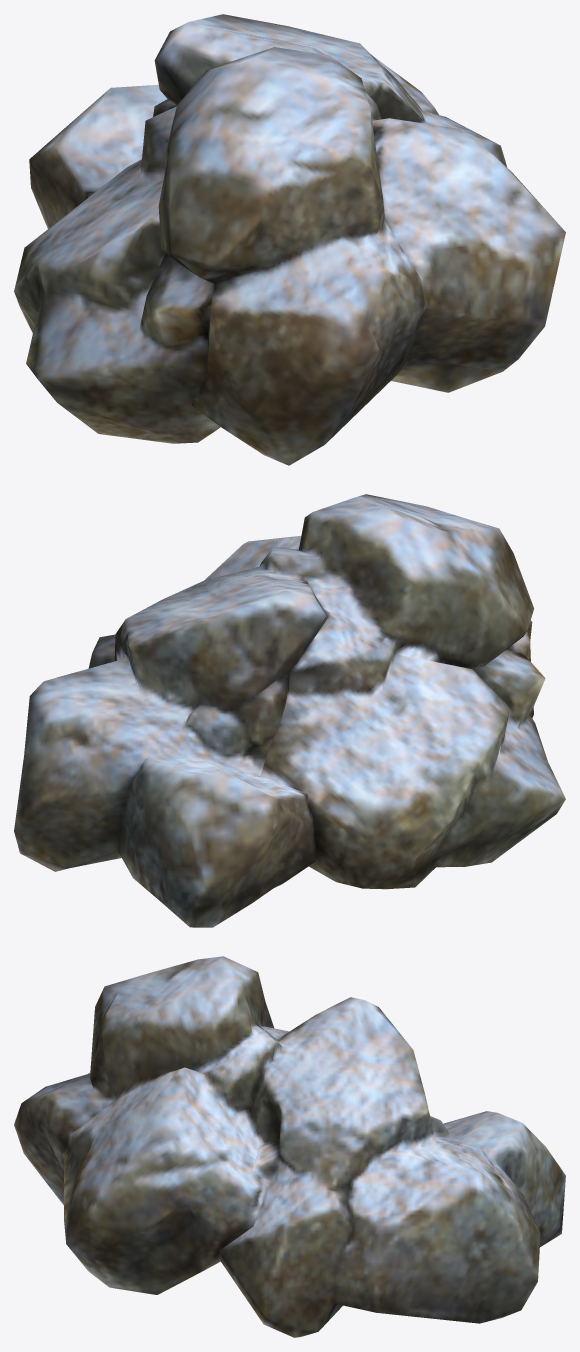
Rendered from SM_EN_2007_shitou03.FBX.
3 views of the same model, one above another, from view 1: azimuth 30°, elevation 25°; view 2: azimuth 150°, elevation 25°; view 3: azimuth 270°, elevation 25° (orthographic). The views are drawn at different scales.
Visible parts, largest first — view 1: SM_EN_2007_shitou03; view 2: SM_EN_2007_shitou03; view 3: SM_EN_2007_shitou03.
Boxes of the visible parts, x1,y1,x2,y2 form: SM_EN_2007_shitou03: [14, 14, 565, 465]; SM_EN_2007_shitou03: [14, 494, 565, 927]; SM_EN_2007_shitou03: [14, 956, 565, 1337].
Bounding box in the file's own units: 218 × 144 × 246.
